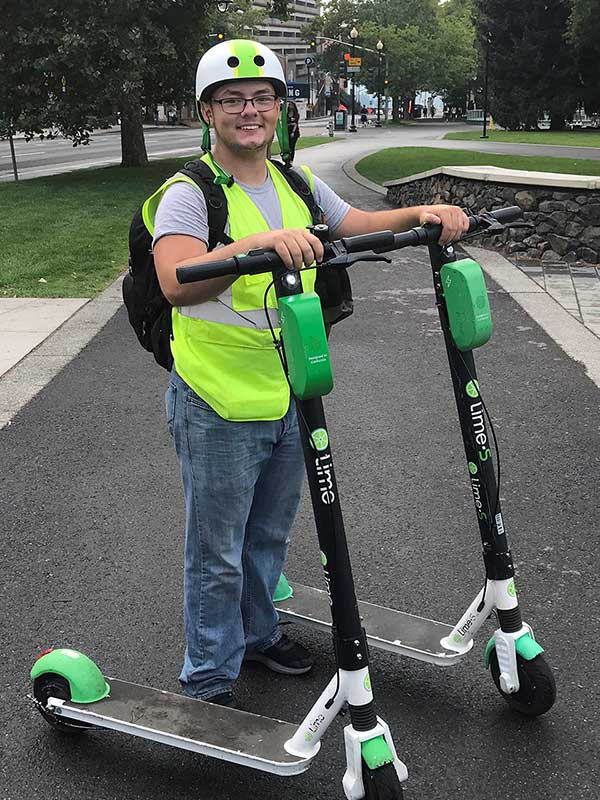scooter: (29, 230, 410, 800), (209, 197, 559, 718)
with helmet: (189, 36, 293, 152)
